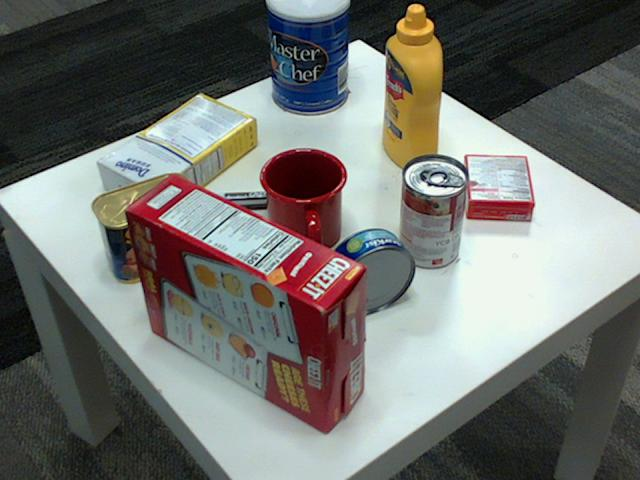cracker_box: (123, 173, 365, 431)
gelatin_box: (464, 154, 537, 219)
large_marker: (207, 189, 314, 213)
master_chef_can: (265, 0, 347, 114)
mug: (260, 144, 349, 253)
mustard_bottle: (382, 4, 441, 171)
potted_meat_can: (92, 172, 201, 284)
sugar_box: (98, 92, 258, 215)
tomato_soup_can: (398, 154, 468, 267)
tuna_fish_can: (326, 227, 416, 313)
